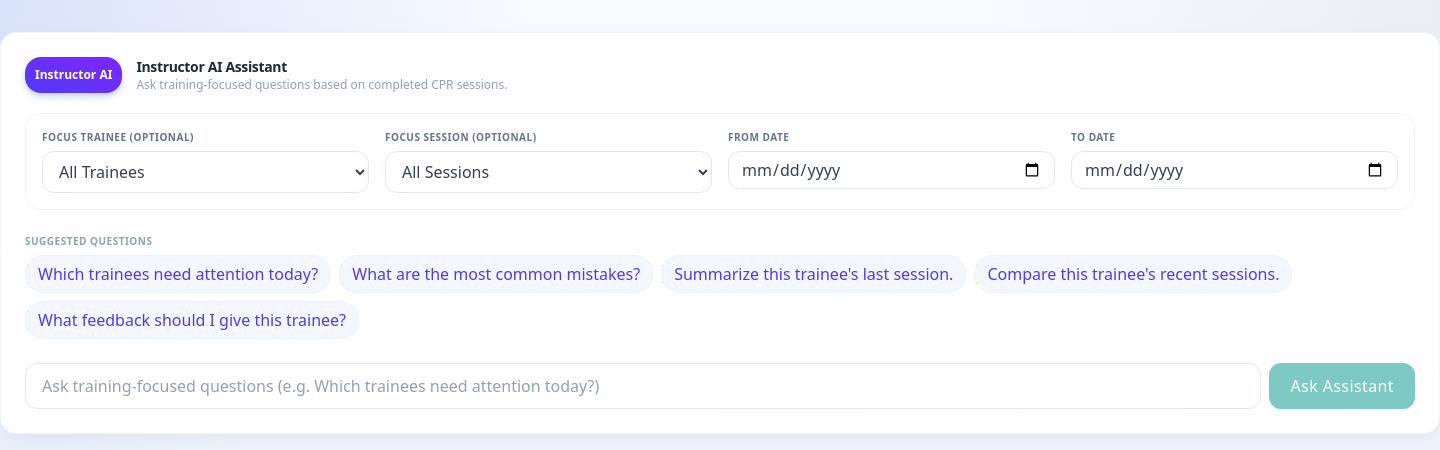
Test: InstructorAiAssistantPanel › suggested question button fills the question input
Click the button "Which trainees need attention today?".
click(178, 274)  # box 25,255 -> 331,293
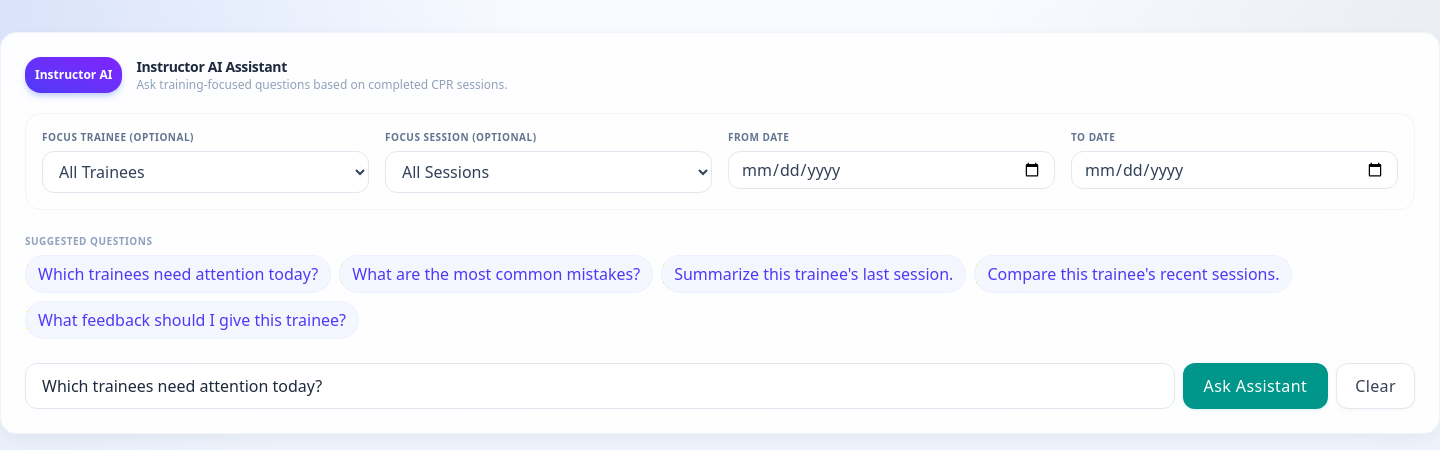
Now the field with placeholder "Ask training-focused questions" holds "Which trainees need attention today?", box 25,363 -> 1175,409
